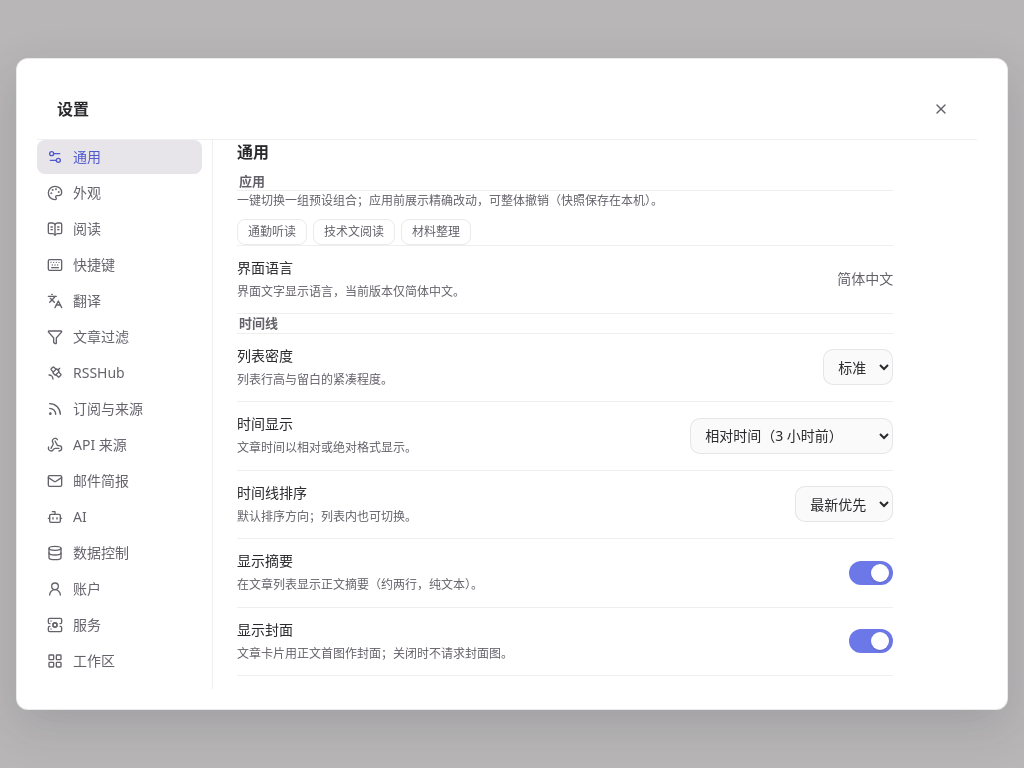
0014a Gate 3 — Service settings truthfulness › 服务（R03 拆分）：渲染真实依赖状态行（非 planned 占位）
The width and height of the screenshot is (1024, 768).
Click the button "服务". click: (120, 625)
box: [37,608,202,642]
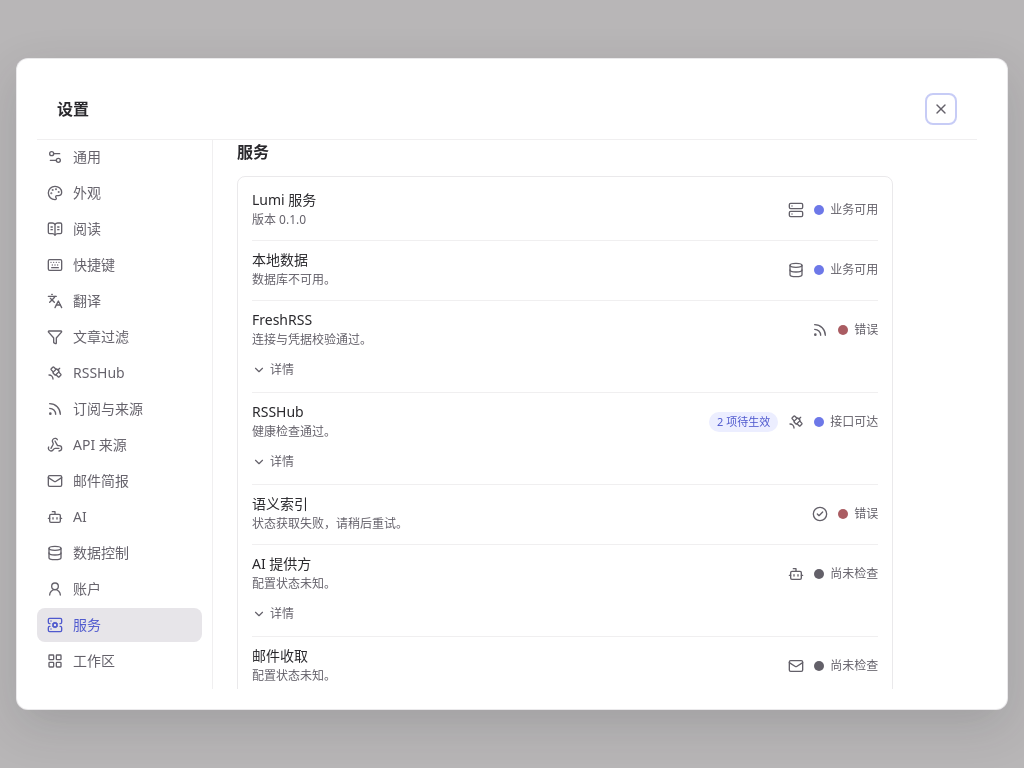
Result: the text "Lumi 服务" is shown at [252,191,316,208]
Result: the text "2 项待生效" is shown at [709,412,778,432]
